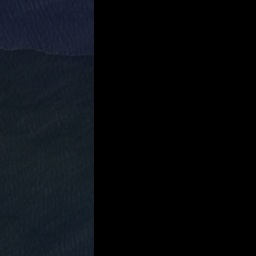Marine Debris: (0, 46, 75, 56)
